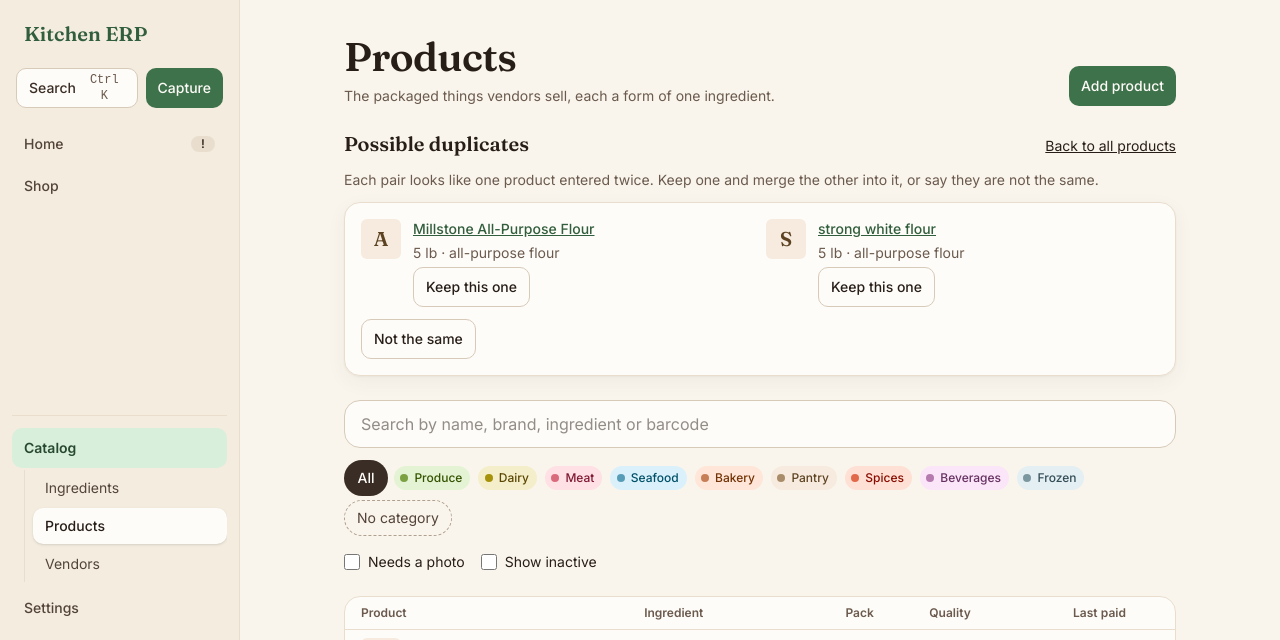
possible duplicates › shows each pair side by side, and Not the same is remembered
Check: the number of buttons "Keep this one" is 2, box [413,267,530,307]; [818,267,935,307]
Click the button "Not the same": (418, 339) [361,319,476,359]
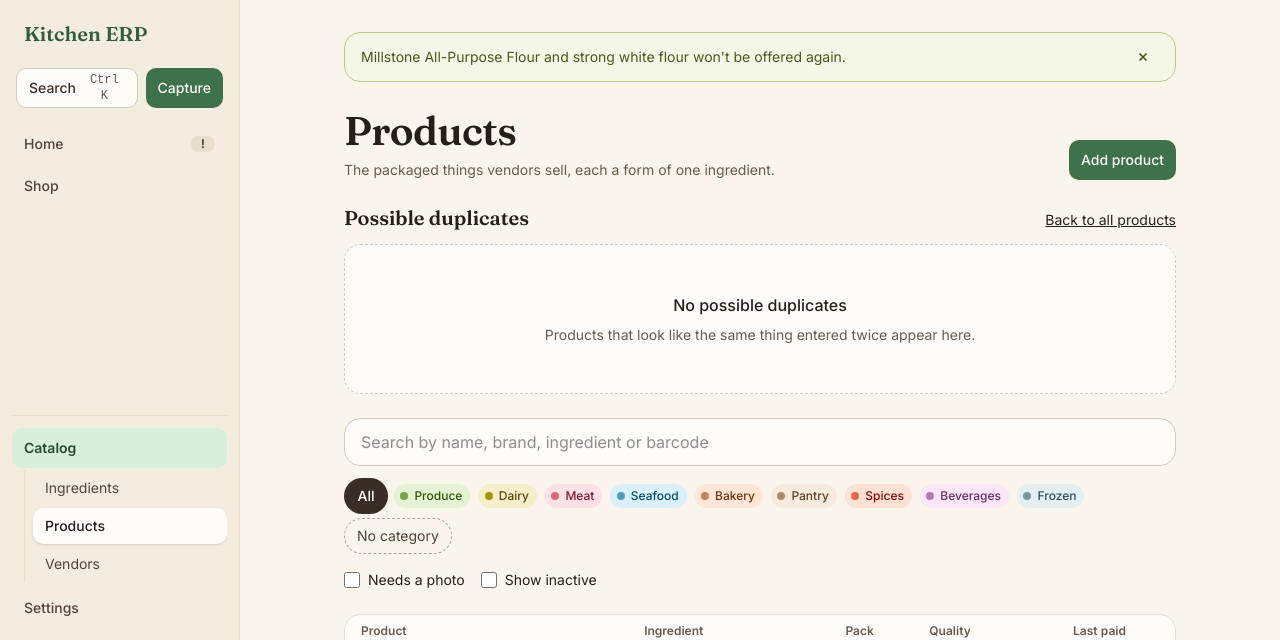
Check: the text "No possible duplicates" is shown, box [673,295,847,315]
